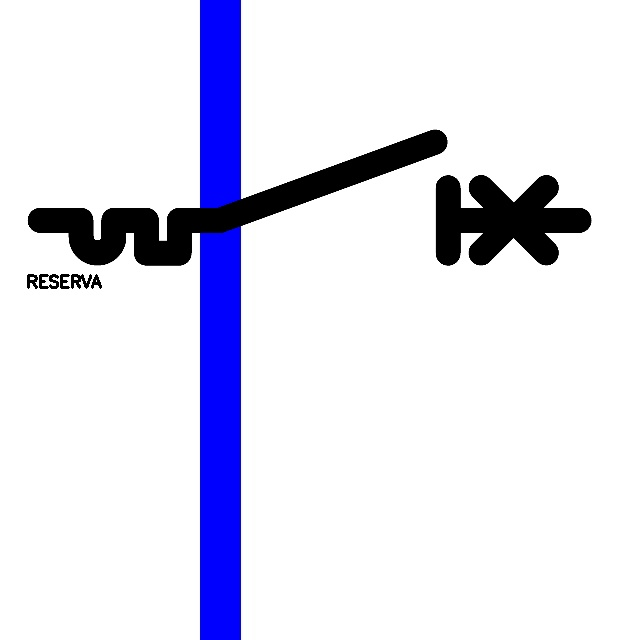interruptor_termomagnetico: (26, 128, 593, 267)
